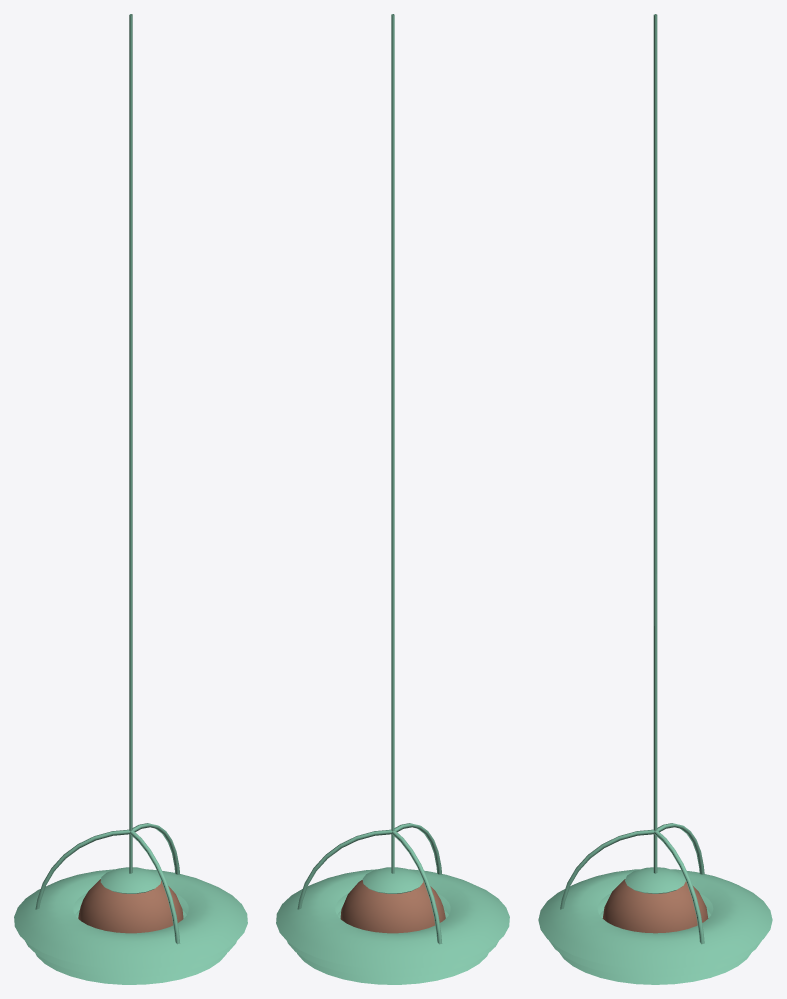
Rendered from SM_PlanetLamp.fbx.
The picture shows the model from 3 angles, left to right: view 1: azimuth 30°, elevation 25°; view 2: azimuth 150°, elevation 25°; view 3: azimuth 270°, elevation 25°; orthographic projection.
Visible parts, largest first — view 1: PlanetLamp; view 2: PlanetLamp; view 3: PlanetLamp.
Boxes of the visible parts, x1=… form: PlanetLamp: x1=14, y1=14, x2=247, y2=984; PlanetLamp: x1=276, y1=14, x2=509, y2=984; PlanetLamp: x1=538, y1=14, x2=772, y2=984.
Bounding box in the file's own units: 70.16 × 70.16 × 316.
